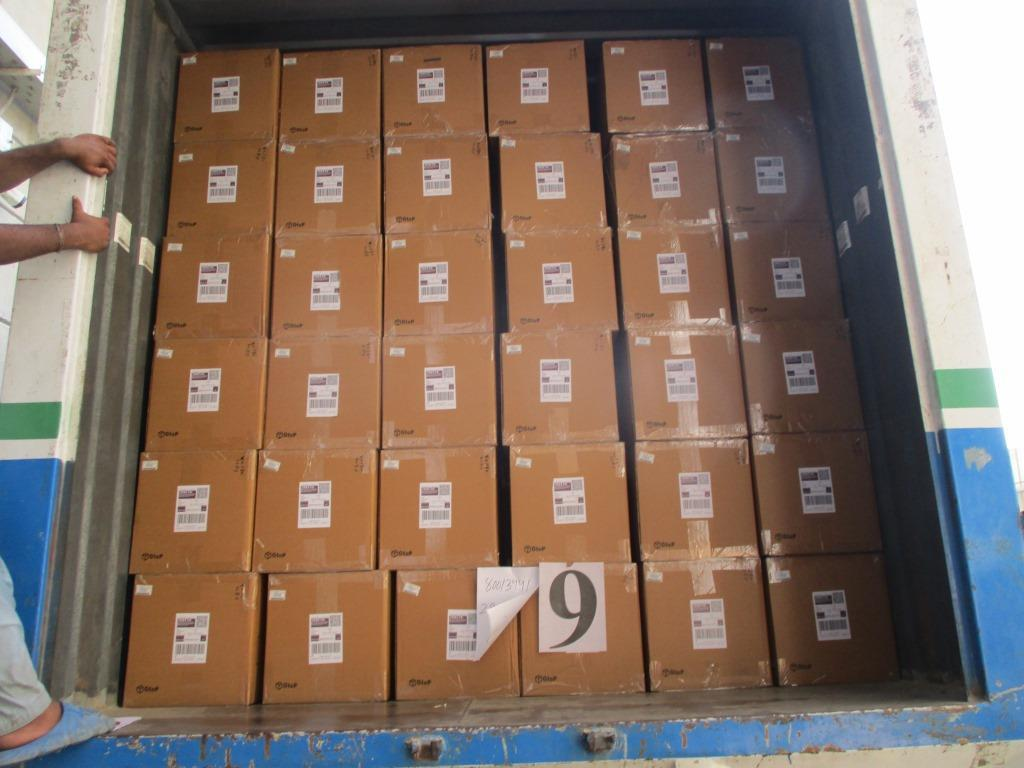carton: (123, 572, 263, 706), (767, 553, 898, 686), (642, 557, 771, 691), (263, 570, 391, 705), (518, 562, 643, 695), (750, 431, 881, 556), (395, 568, 520, 699), (129, 449, 256, 574), (252, 447, 378, 571), (377, 446, 498, 569), (634, 439, 758, 559), (508, 443, 630, 564), (144, 336, 268, 450), (740, 318, 862, 432), (500, 329, 619, 444), (626, 326, 746, 440), (263, 336, 380, 449), (382, 333, 496, 447), (616, 220, 730, 328), (154, 233, 272, 336), (727, 221, 844, 323), (505, 226, 617, 331), (384, 230, 495, 335), (271, 235, 383, 337), (714, 126, 829, 221), (496, 132, 606, 231), (609, 130, 722, 225), (383, 134, 492, 232), (166, 139, 275, 235), (274, 139, 380, 235), (484, 38, 589, 134), (174, 48, 281, 142), (601, 39, 709, 132), (704, 36, 812, 128), (382, 44, 486, 136), (279, 48, 381, 141)
